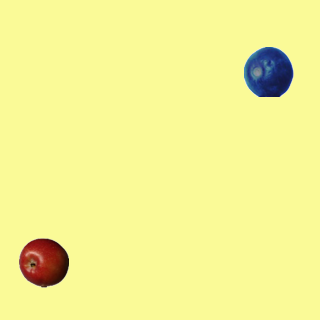Apple Braeburn: (18, 237, 68, 287)
Huckleberry: (243, 46, 293, 96)
